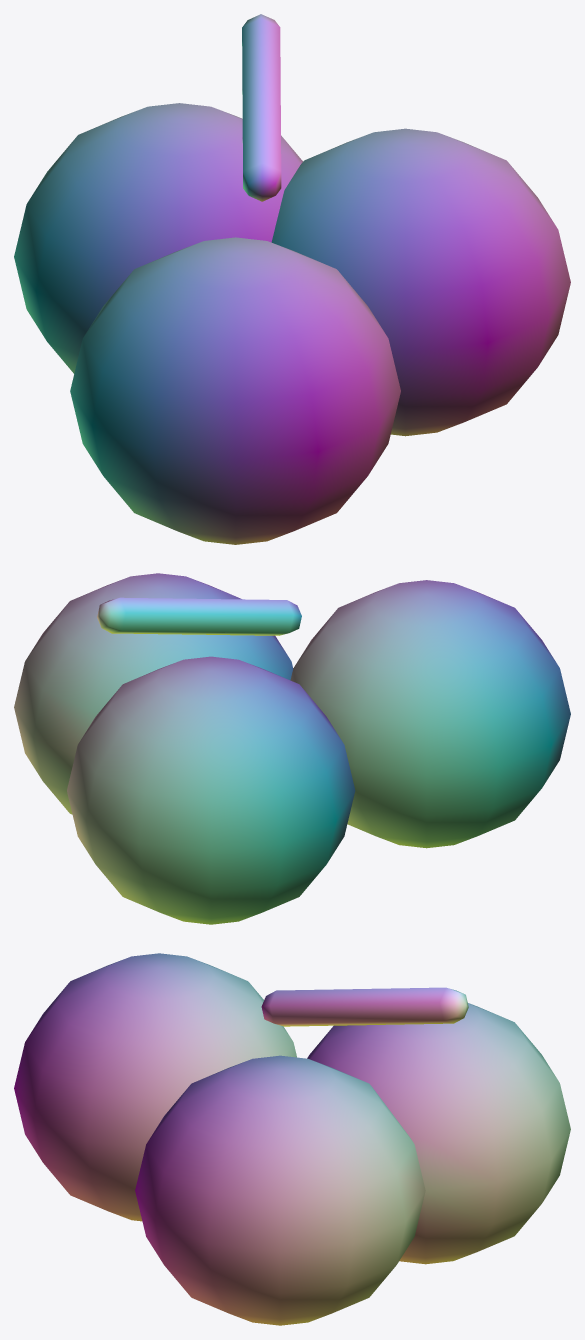
File: env_deco_grape.glb
3 renders of one model, top to bottom at view 1: azimuth 30°, elevation 25°; view 2: azimuth 150°, elevation 25°; view 3: azimuth 270°, elevation 25°, orthographic. The views are drawn at different scales.
Visible parts, largest first — view 1: env_deco_grape_mesh; view 2: env_deco_grape_mesh; view 3: env_deco_grape_mesh.
Part boxes in pixels (x1,y1,x2,y2): env_deco_grape_mesh: (14,14,570,544); env_deco_grape_mesh: (14,573,570,924); env_deco_grape_mesh: (14,953,570,1325).
Size of the model in its own units: 0.22 by 0.1378 by 0.23.
